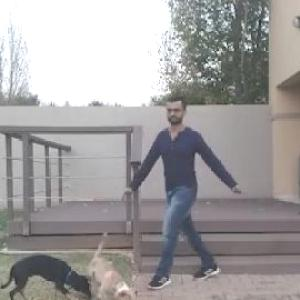land: (126, 99, 247, 295)
